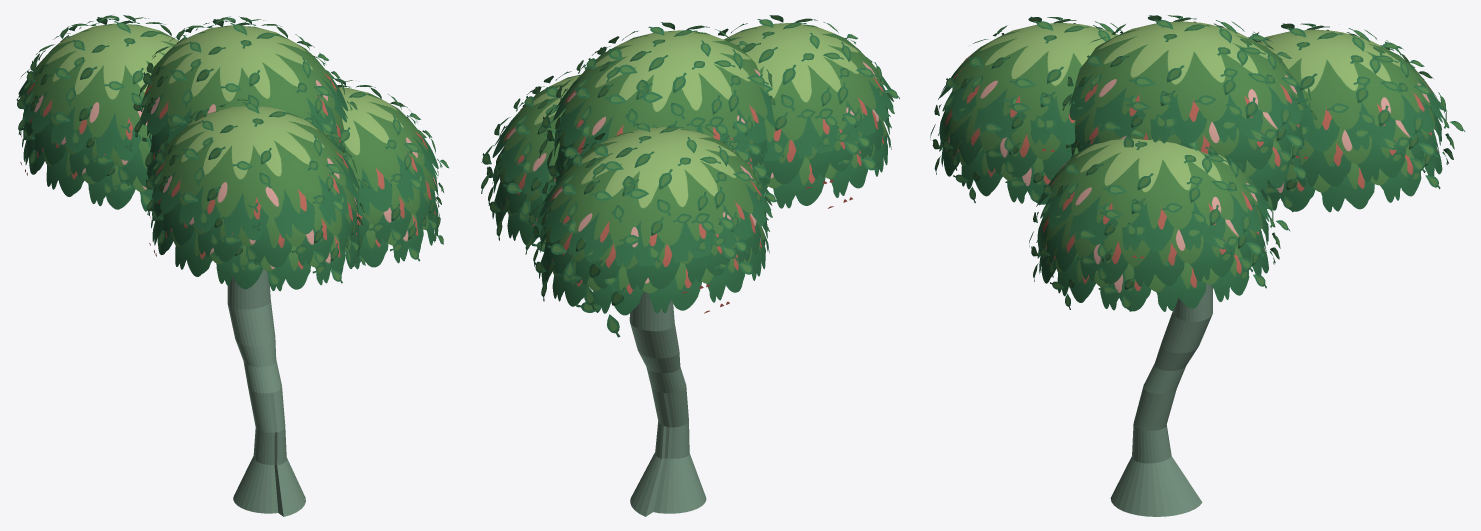
The model's file is ThreeNormal2.fbx.
3 renders of one model, left to right at view 1: azimuth 30°, elevation 25°; view 2: azimuth 150°, elevation 25°; view 3: azimuth 270°, elevation 25°, orthographic. The views are drawn at different scales.
Parts seen in each view (by area): view 1: ThreeCrimson2.004; view 2: ThreeCrimson2.004; view 3: ThreeCrimson2.004.
Part boxes in pixels (x1,y1,x2,y2): ThreeCrimson2.004: [16, 14, 448, 516]; ThreeCrimson2.004: [481, 15, 899, 516]; ThreeCrimson2.004: [930, 15, 1465, 516].
Bounding box in the file's own units: 1519 × 2075 × 2143.
